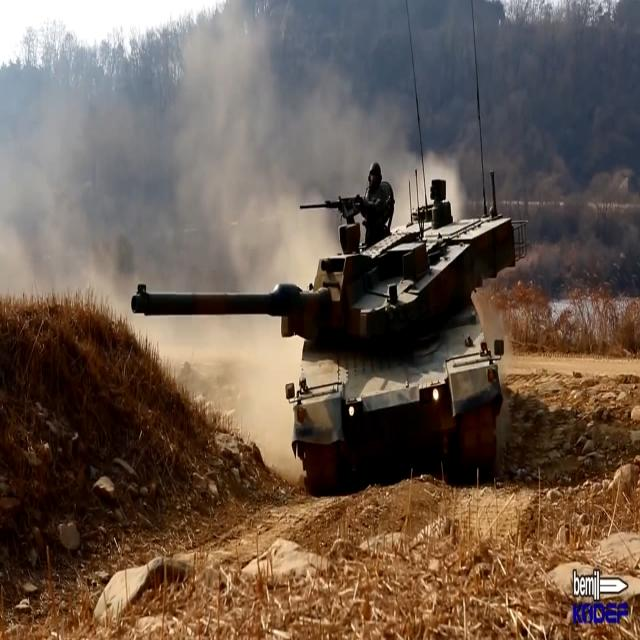korea tank: (130, 160, 527, 494)
